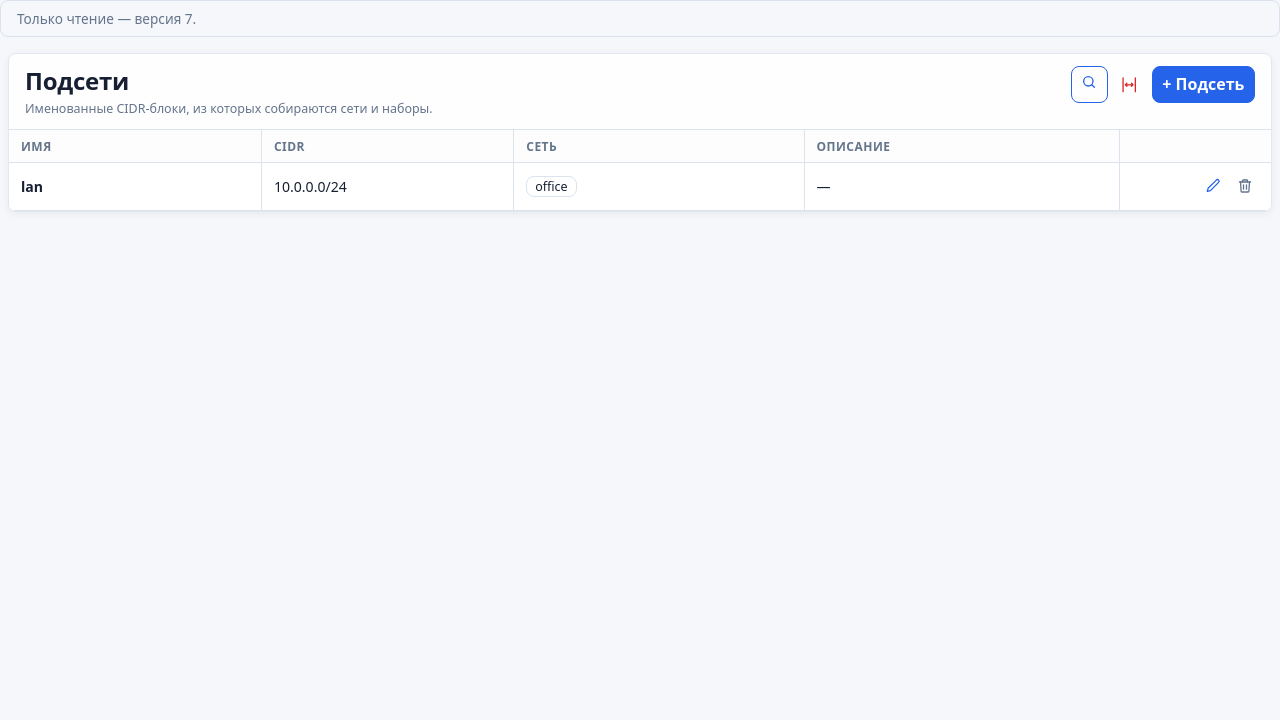
Scenario: SubnetsPage › blocks editing without a draft
This screenshot has width=1280, height=720.
expect the text "lan" is shown: met, box [9, 162, 261, 210]
Click the button titled "Изменить подсеть lan" at (1213, 186), box [1199, 172, 1227, 200]
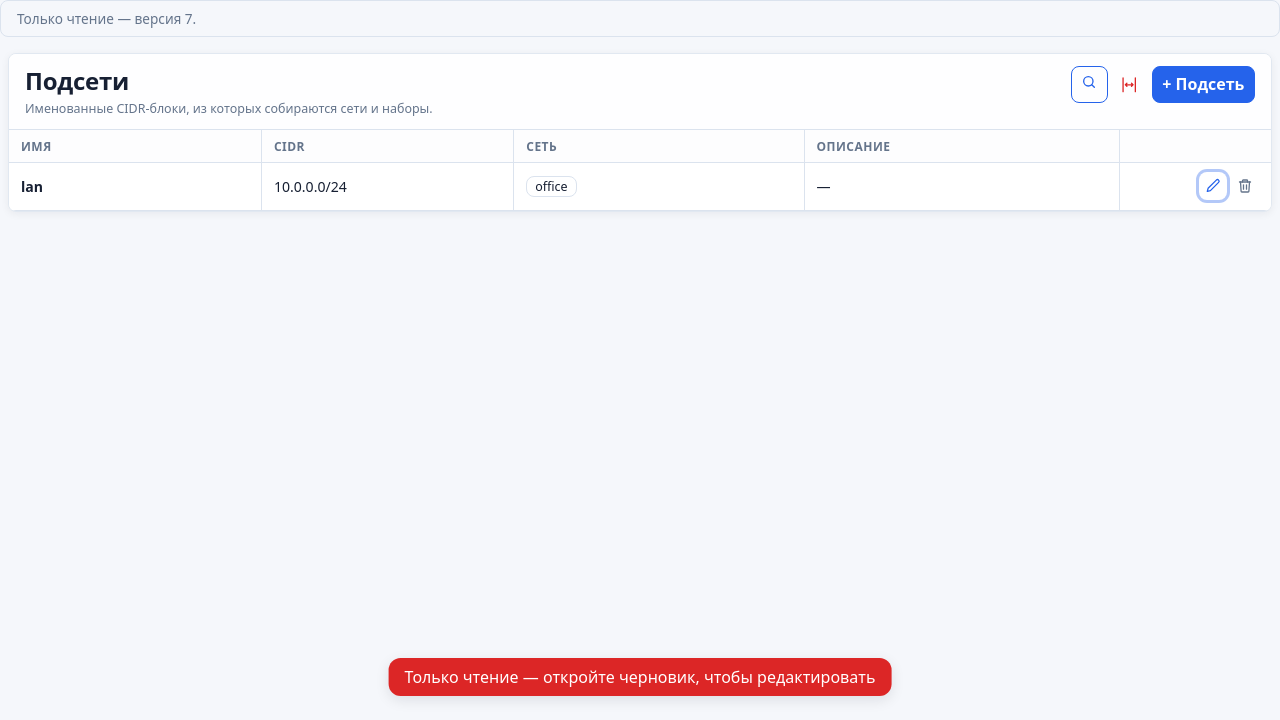
expect the message with test id "banner" shows "Только чтение": met, box [405, 666, 875, 688]
